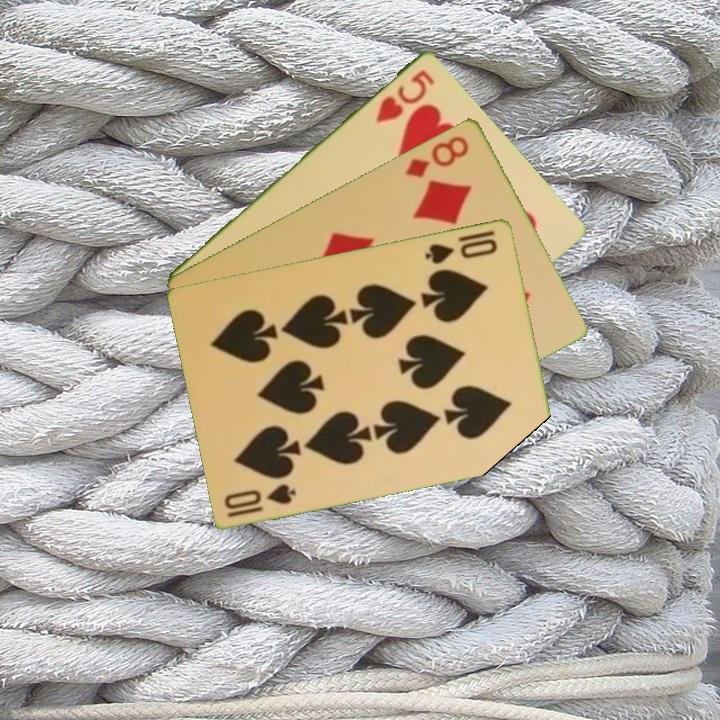10s: (421, 226, 501, 267), (221, 479, 299, 520)
5h: (372, 65, 438, 125)
8d: (402, 131, 472, 180)
